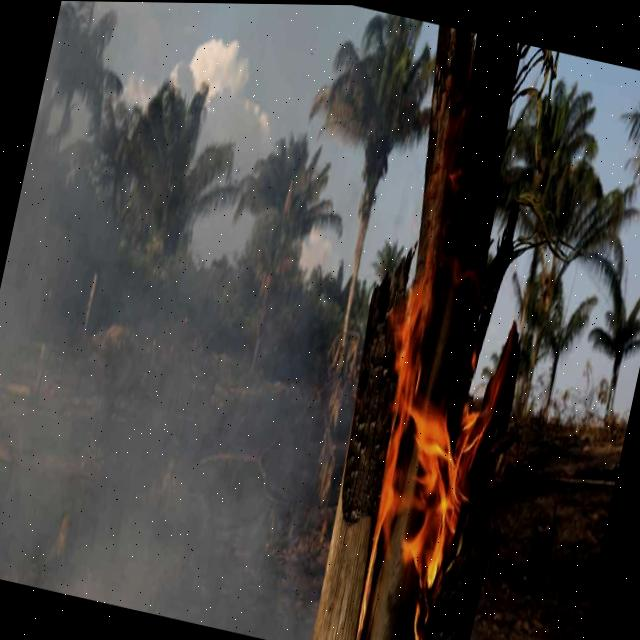fire: (340, 277, 509, 593)
smoke: (0, 188, 358, 640), (21, 1, 109, 197)
